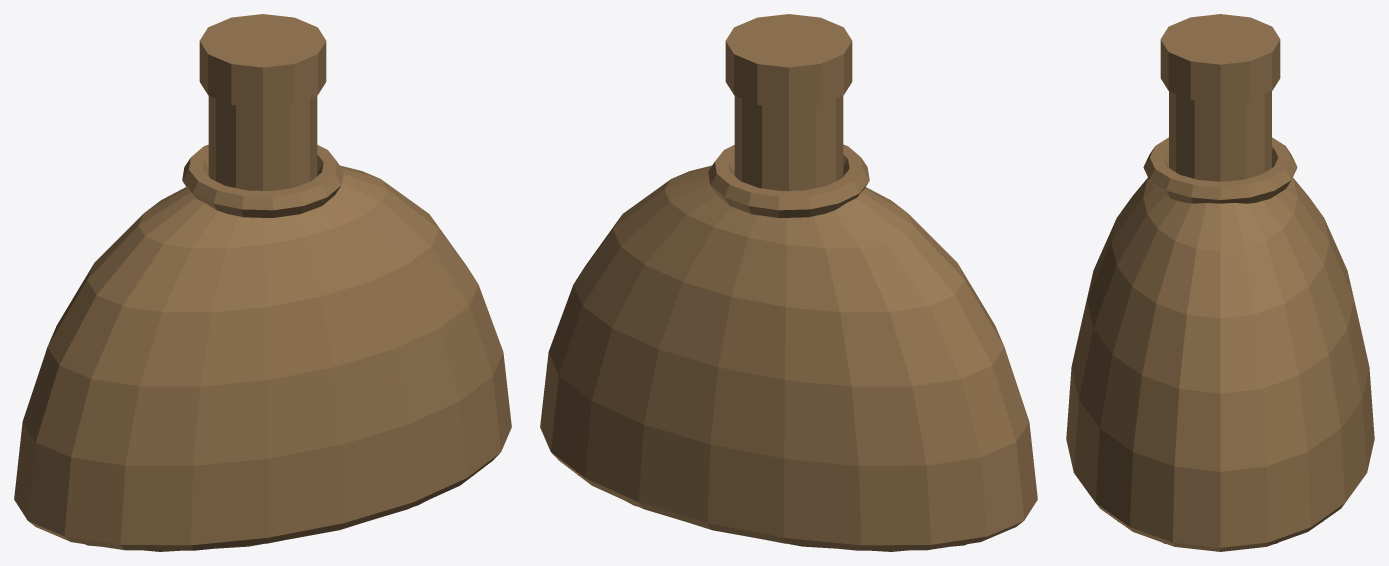
File: water_skin.glb
3 views of the same model, side by side, from view 1: azimuth 30°, elevation 25°; view 2: azimuth 150°, elevation 25°; view 3: azimuth 270°, elevation 25° (orthographic). The views are drawn at different scales.
Visible parts, largest first — view 1: water_skin; view 2: water_skin; view 3: water_skin.
Boxes of the visible parts, x1=… form: water_skin: x1=14, y1=14, x2=511, y2=551; water_skin: x1=540, y1=14, x2=1037, y2=551; water_skin: x1=1066, y1=14, x2=1374, y2=551.
Bounding box in the file's own units: 0.12 × 0.1056 × 0.072.
